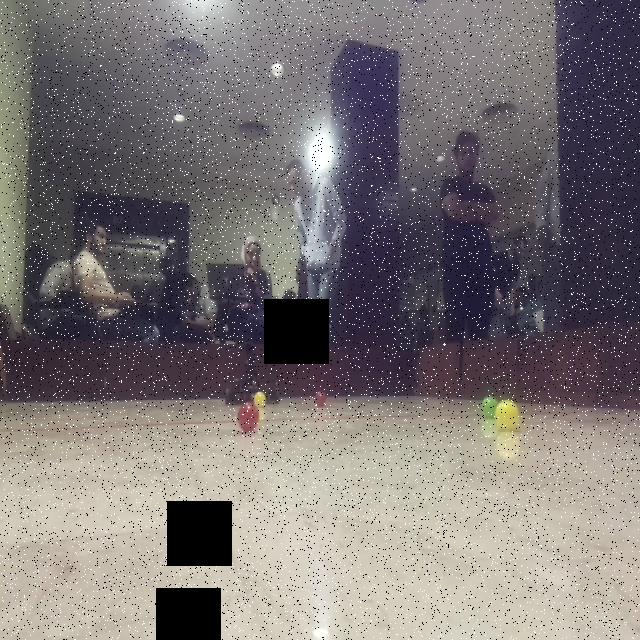ball: (493, 399, 520, 431), (237, 401, 261, 435), (478, 395, 499, 423), (250, 390, 270, 410), (310, 386, 328, 407)
